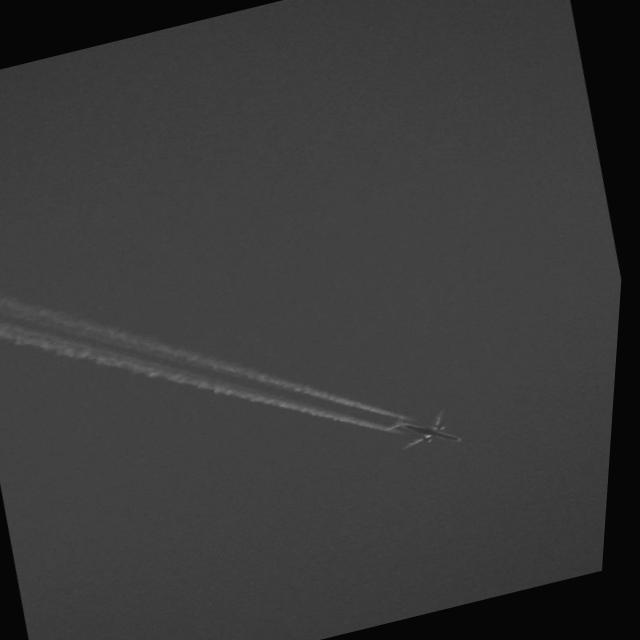aeroplane: (379, 392, 480, 462)
